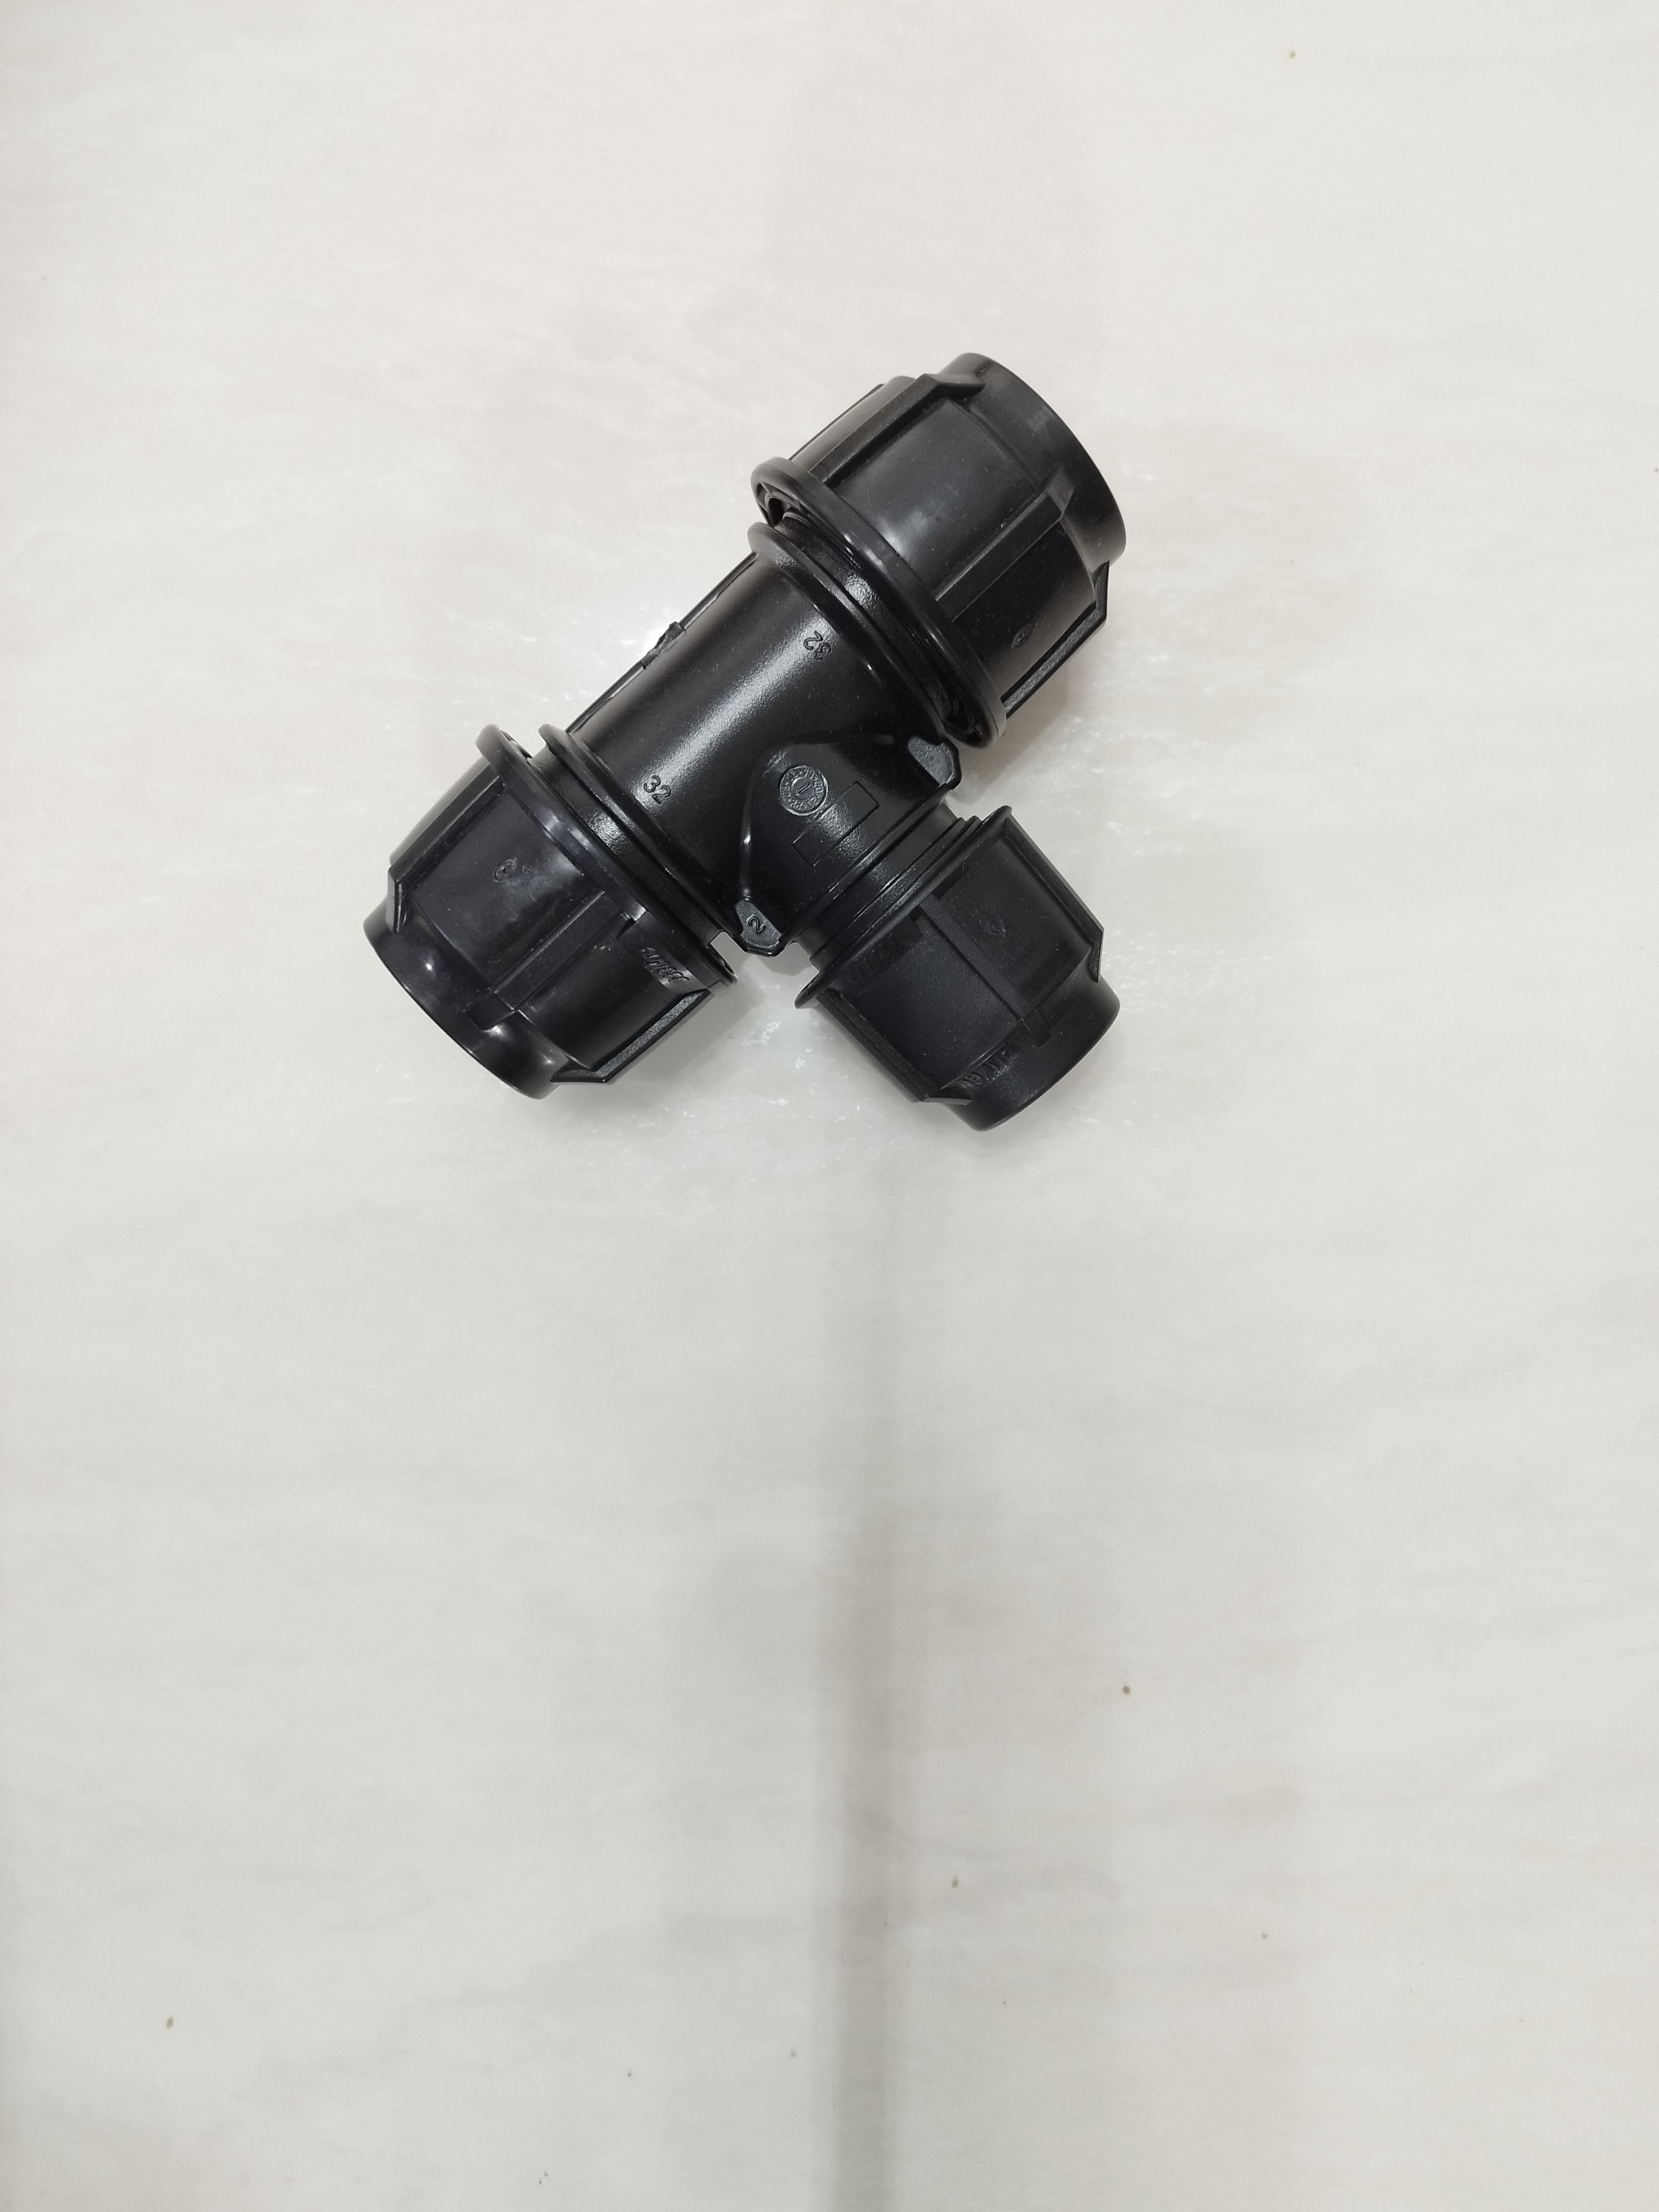plastic_tee_connector: (352, 307, 1157, 1174)
